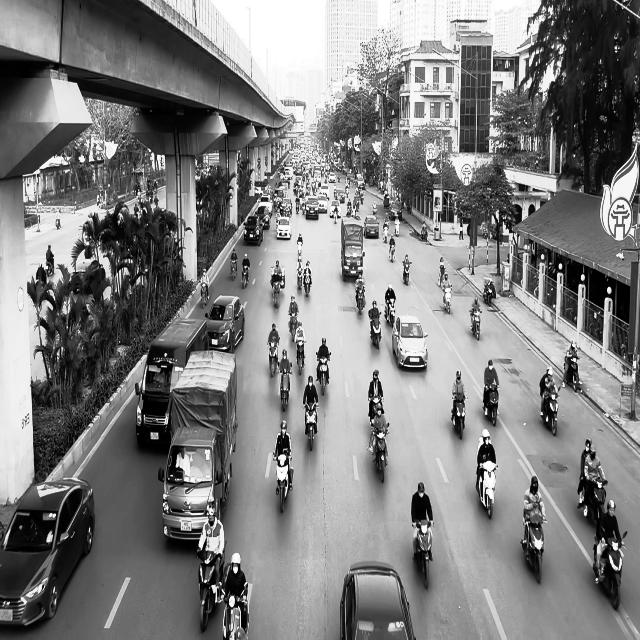bus: (135, 317, 210, 447)
car: (0, 477, 96, 628), (339, 562, 416, 640), (205, 294, 245, 352), (392, 315, 428, 370), (70, 258, 104, 294), (243, 215, 264, 245), (276, 217, 292, 240), (364, 216, 379, 238)
motorbike: (592, 530, 628, 610), (197, 548, 226, 632), (520, 511, 547, 584), (220, 583, 250, 640), (412, 519, 434, 589), (580, 477, 608, 523), (369, 422, 390, 482), (476, 461, 498, 518), (273, 451, 293, 513), (540, 385, 562, 436), (303, 401, 319, 451), (451, 394, 467, 439), (483, 383, 499, 426), (279, 364, 293, 412), (563, 355, 581, 392), (316, 352, 331, 396), (369, 310, 382, 348), (268, 337, 280, 377), (271, 276, 283, 308), (470, 309, 482, 340), (442, 282, 453, 314), (296, 340, 306, 375), (384, 298, 396, 326), (288, 313, 299, 342), (483, 278, 494, 305), (356, 287, 366, 313), (200, 282, 209, 308), (241, 264, 250, 289), (403, 260, 412, 285), (304, 268, 312, 295), (296, 263, 304, 289), (230, 258, 238, 280), (389, 241, 396, 263), (383, 223, 389, 243)
